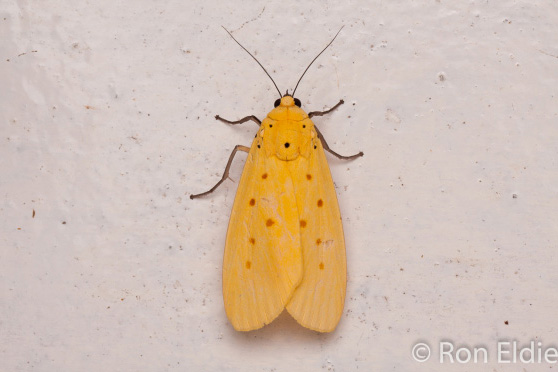Agape chloropyga: (184, 19, 363, 333)
moth: (186, 21, 365, 335)
